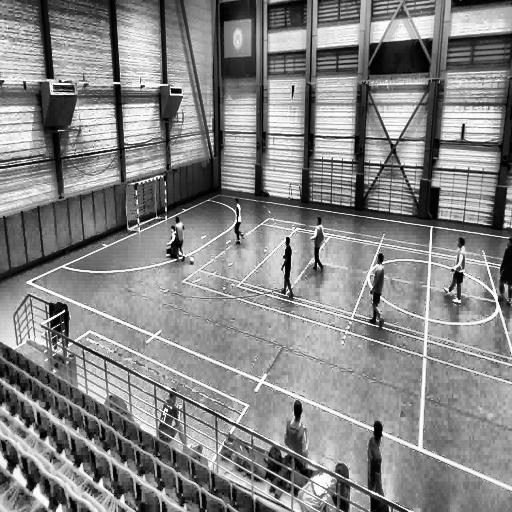ball: (189, 256, 195, 266)
player: (157, 386, 191, 450), (284, 400, 309, 464), (366, 420, 384, 508), (444, 236, 467, 304), (368, 252, 385, 327), (497, 236, 512, 307), (280, 236, 295, 298), (165, 222, 185, 262), (311, 217, 325, 272), (171, 216, 185, 264), (233, 198, 244, 246)
